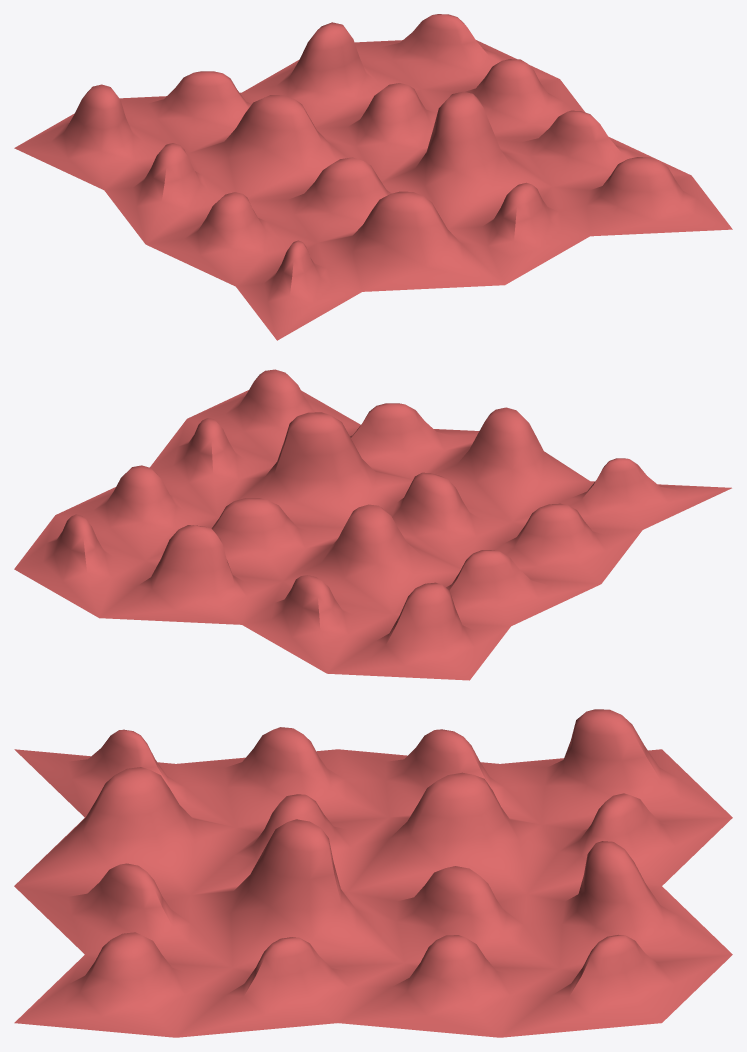
Rendered from tongue_ground_group.fbx.
3 renders of one model, top to bottom at view 1: azimuth 30°, elevation 25°; view 2: azimuth 150°, elevation 25°; view 3: azimuth 270°, elevation 25°, orthographic. The views are drawn at different scales.
Parts seen in each view (by area): view 1: tongue_ground_LOD0; view 2: tongue_ground_LOD0; view 3: tongue_ground_LOD0.
Boxes of the visible parts, x1=… form: tongue_ground_LOD0: x1=14, y1=14, x2=732, y2=340; tongue_ground_LOD0: x1=14, y1=369, x2=731, y2=680; tongue_ground_LOD0: x1=14, y1=709, x2=732, y2=1037.
Size of what is drawn, in the model's own units: 26.34 by 4.43 by 27.74.
